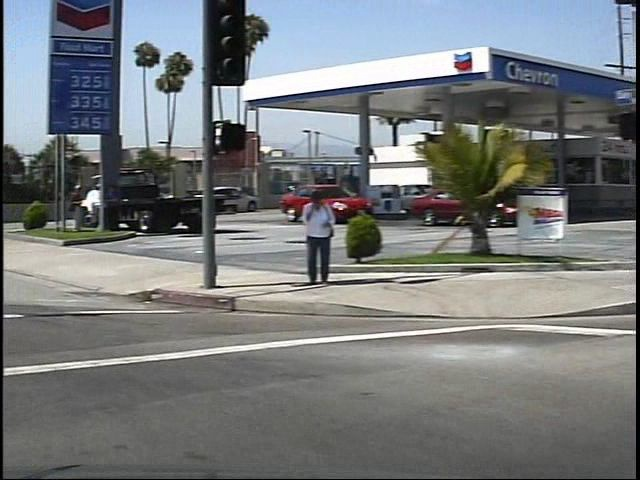person: (288, 186, 328, 288), (60, 181, 80, 236)
